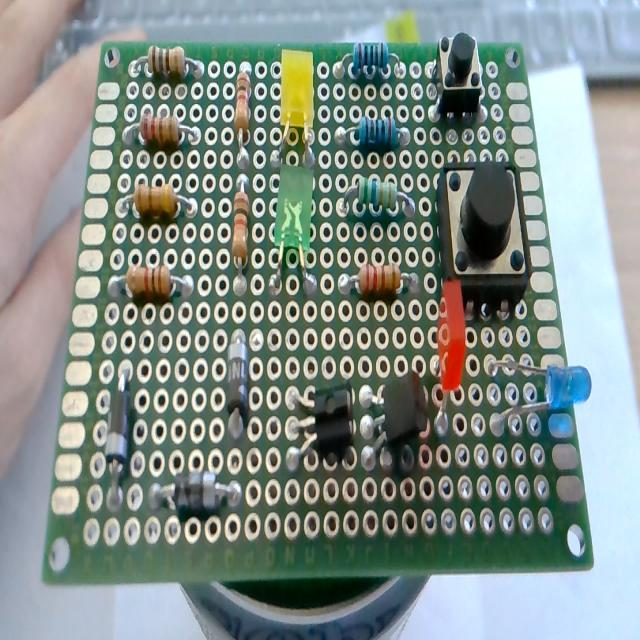diode: (147, 458, 245, 522), (100, 357, 134, 498), (224, 316, 253, 436)
led: (472, 338, 592, 447), (272, 150, 322, 300), (427, 276, 471, 444), (272, 46, 322, 166)
resistor: (333, 163, 417, 225), (332, 101, 416, 159), (113, 172, 203, 225), (124, 39, 206, 95), (100, 259, 196, 305), (115, 109, 203, 158), (336, 249, 418, 301), (335, 34, 405, 86), (228, 59, 257, 164), (226, 184, 252, 287)
switch: (432, 159, 534, 320), (429, 29, 484, 123)
transistor: (359, 376, 429, 492), (287, 379, 357, 488)
